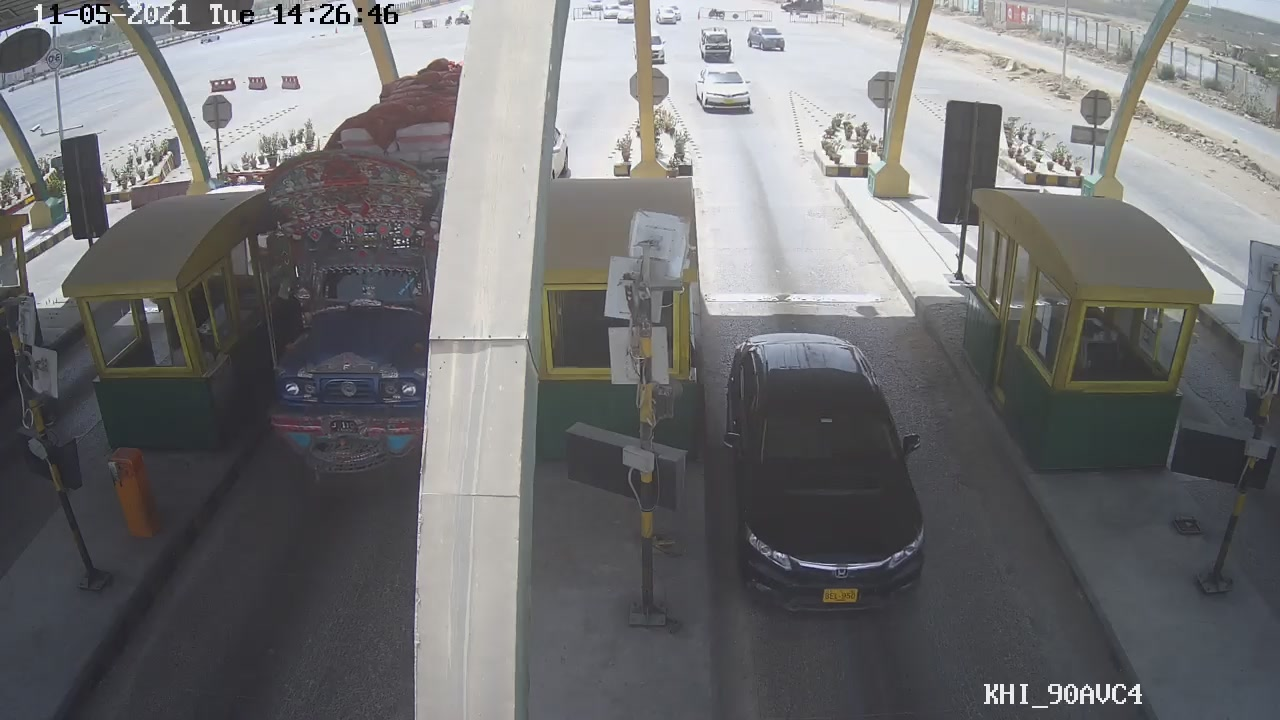F1: (725, 330, 934, 618)
